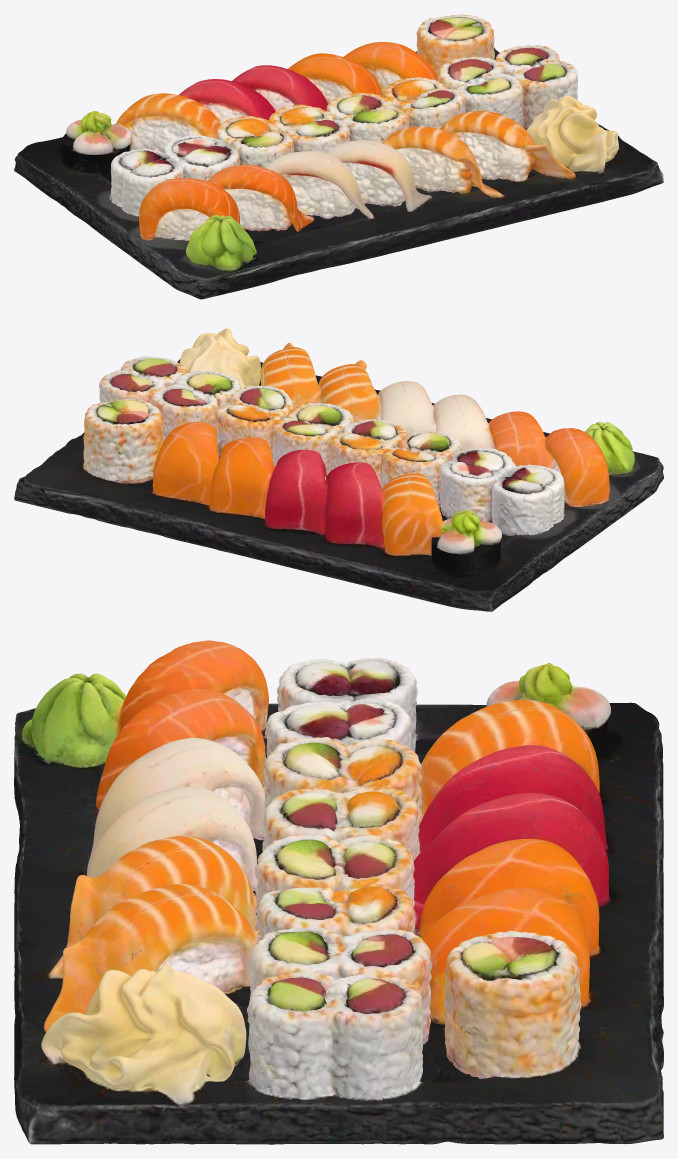
The model's file is sushi.glb.
The picture shows the model from 3 angles, top to bottom: view 1: azimuth 30°, elevation 25°; view 2: azimuth 150°, elevation 25°; view 3: azimuth 270°, elevation 25°; orthographic projection. The views are drawn at different scales.
Visible parts, largest first — view 1: Mesh_0.001; view 2: Mesh_0.001; view 3: Mesh_0.001.
Boxes of the visible parts, <box> form: Mesh_0.001: <box>14,14,663,299</box>; Mesh_0.001: <box>14,328,663,611</box>; Mesh_0.001: <box>14,640,663,1144</box>.
Size of the model in its own units: 0.1995 by 0.03 by 0.1339.
Materials: 1 (1 with a texture image).
